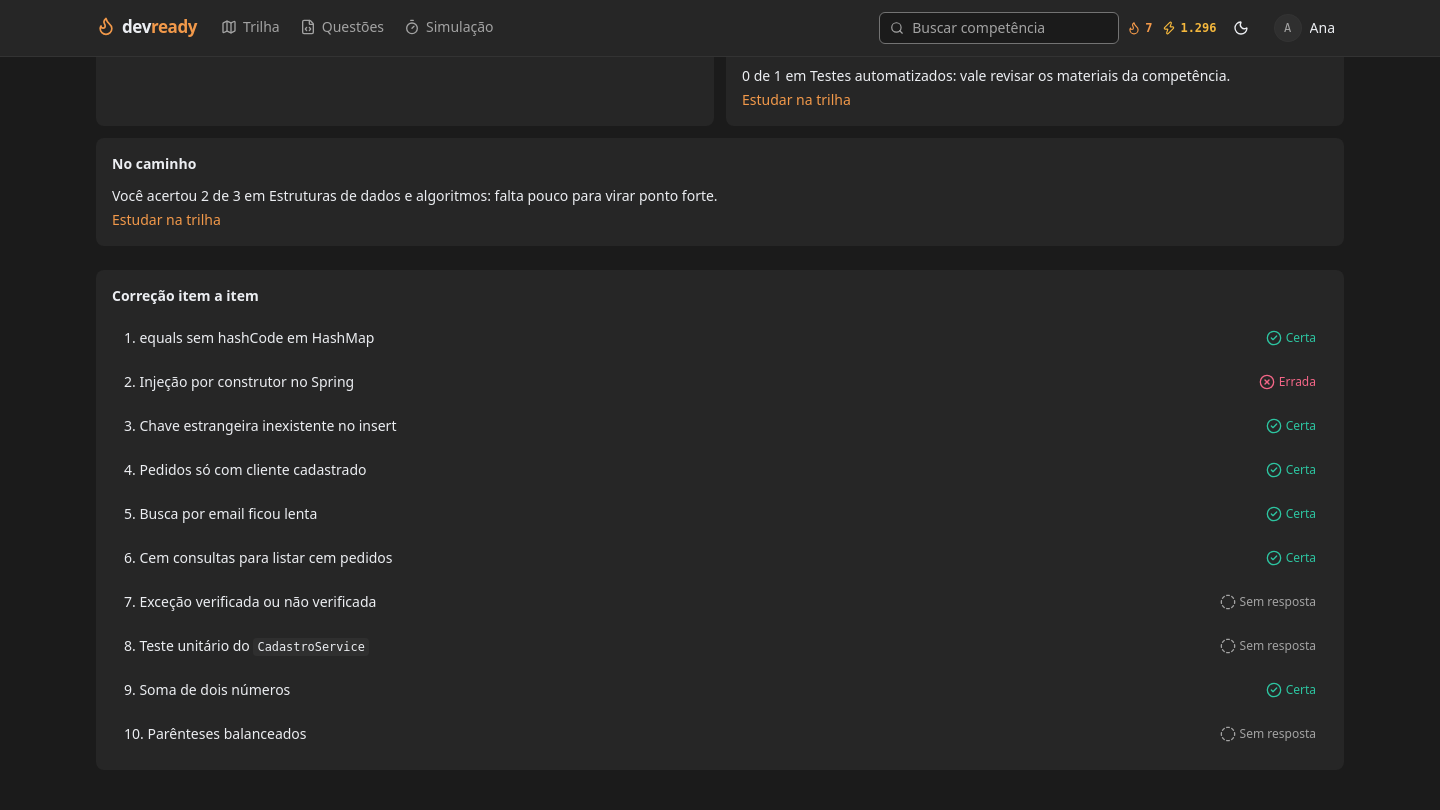
resultado da sessão › simulação acima do objetivo não abre o desafio no editor e diz por quê
The width and height of the screenshot is (1440, 810).
(page scrolled)
Click the heading "9. Soma de dois números Certa". click: (215, 690)
box: top-left (124, 680), bottom-right (1316, 699)
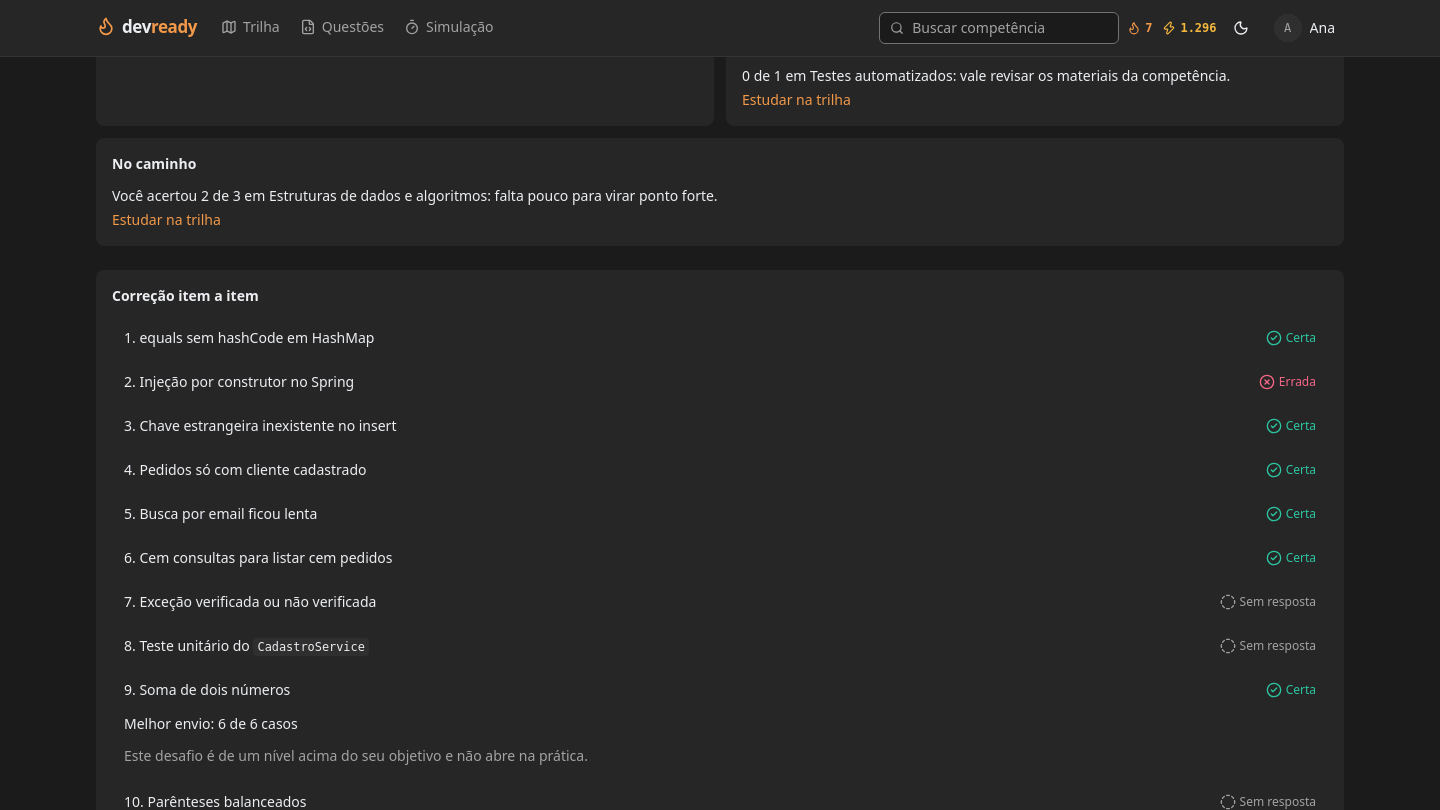
Check: the text "Melhor envio: 6 de 6 casos" is shown, box top-left (124, 714), bottom-right (298, 734)
Check: the text "Este desafio é de um nível acima do seu objetivo e não abre na prática." is shown, box top-left (124, 746), bottom-right (588, 765)
